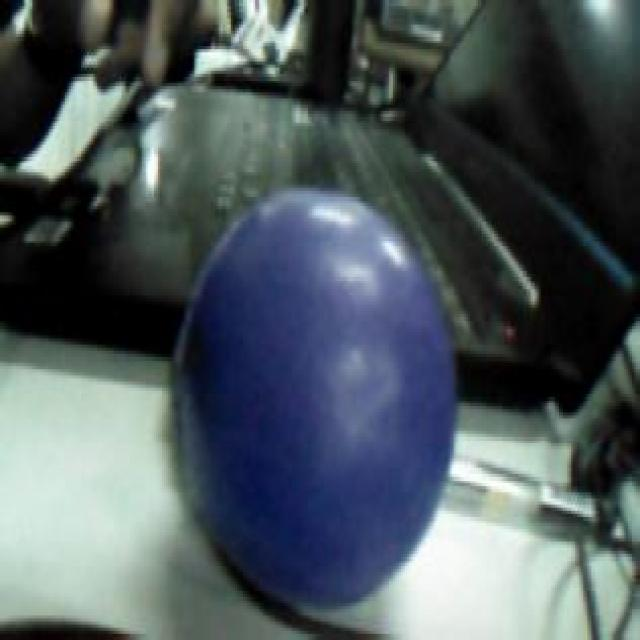BallPurple: (175, 186, 457, 608)
